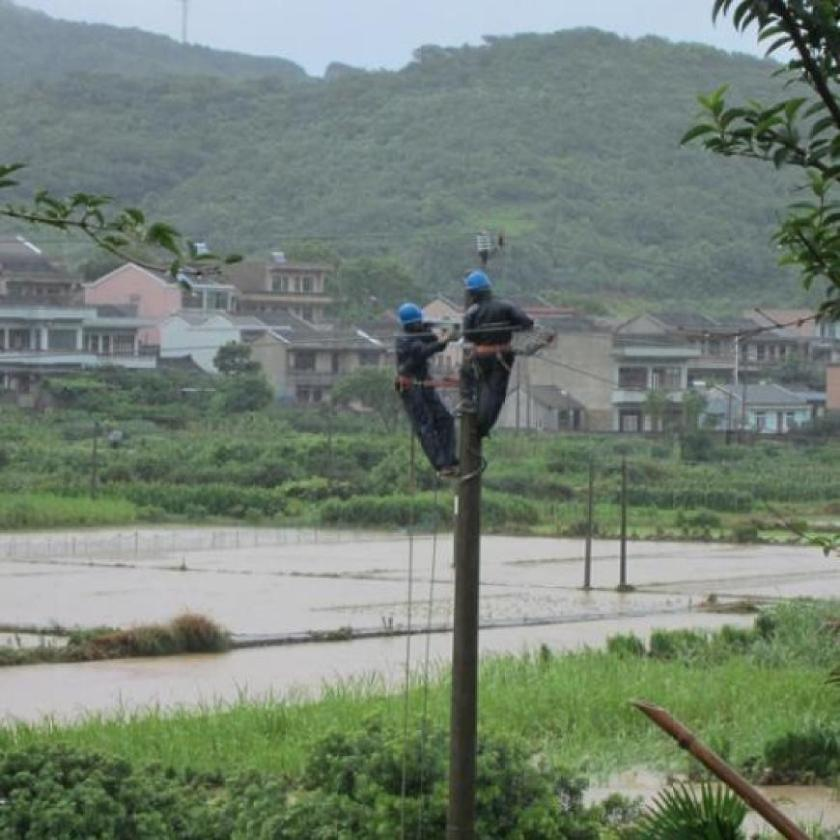Con_casco: (398, 304, 426, 337), (464, 273, 492, 304)
